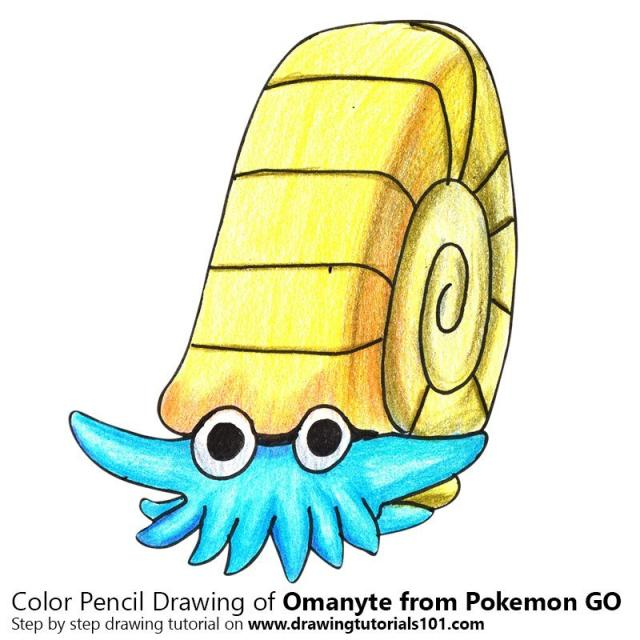Omanyte: (148, 13, 524, 566)
